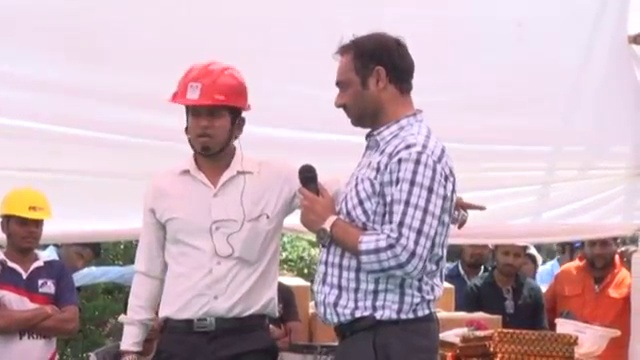helmet: (166, 70, 251, 114), (554, 318, 620, 358), (0, 190, 51, 227), (524, 243, 544, 267)
helmet_off: (333, 34, 419, 125), (52, 241, 96, 281), (495, 242, 528, 280), (586, 237, 619, 272), (457, 240, 489, 270), (551, 238, 582, 268)
helmet_on: (170, 67, 252, 178), (0, 187, 53, 258), (519, 242, 545, 280)
person: (118, 66, 308, 360), (298, 31, 461, 360), (0, 187, 81, 358), (545, 235, 633, 359), (466, 242, 548, 328), (442, 237, 495, 313), (536, 240, 582, 295)
